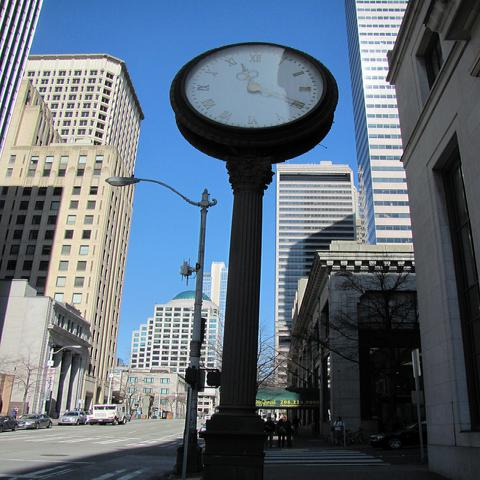car: (369, 414, 429, 450), (17, 414, 53, 430), (57, 412, 88, 425), (0, 416, 19, 432), (126, 412, 132, 422)
truck: (87, 405, 128, 425), (205, 414, 212, 420)
